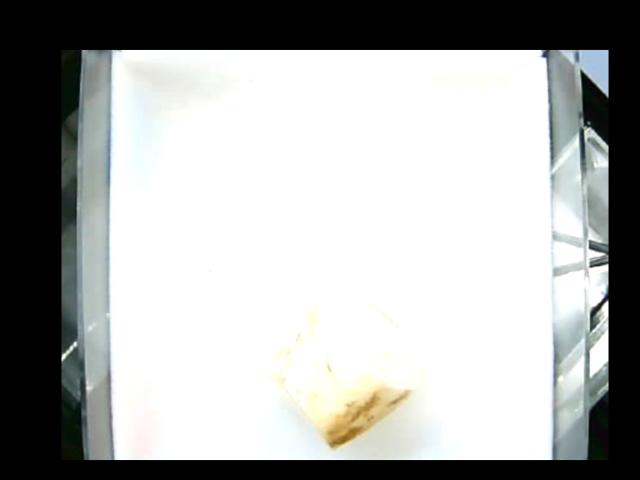Mooli: (261, 287, 421, 449)
